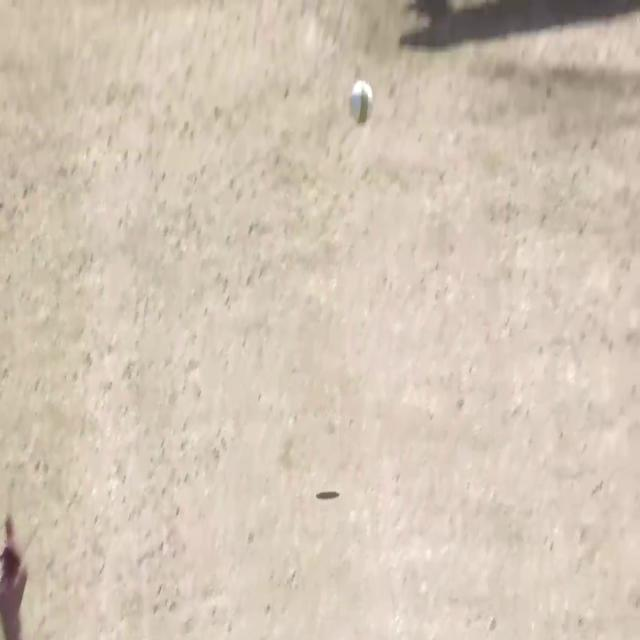ball: (348, 77, 374, 127)
